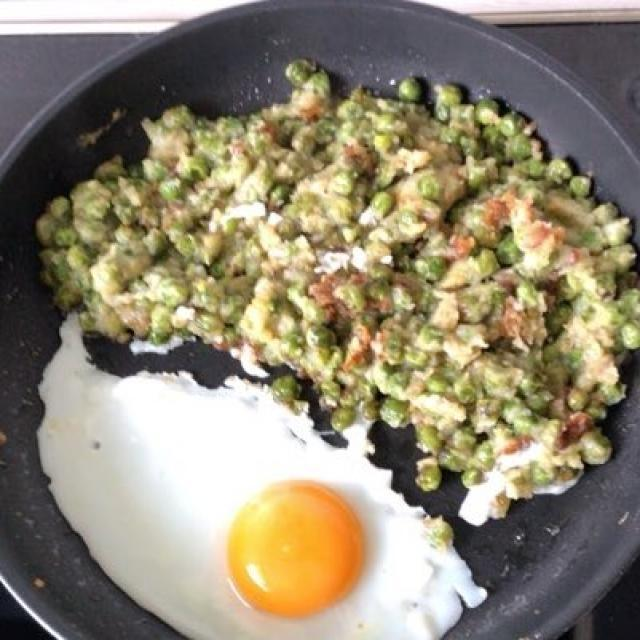egg: (46, 330, 484, 639)
